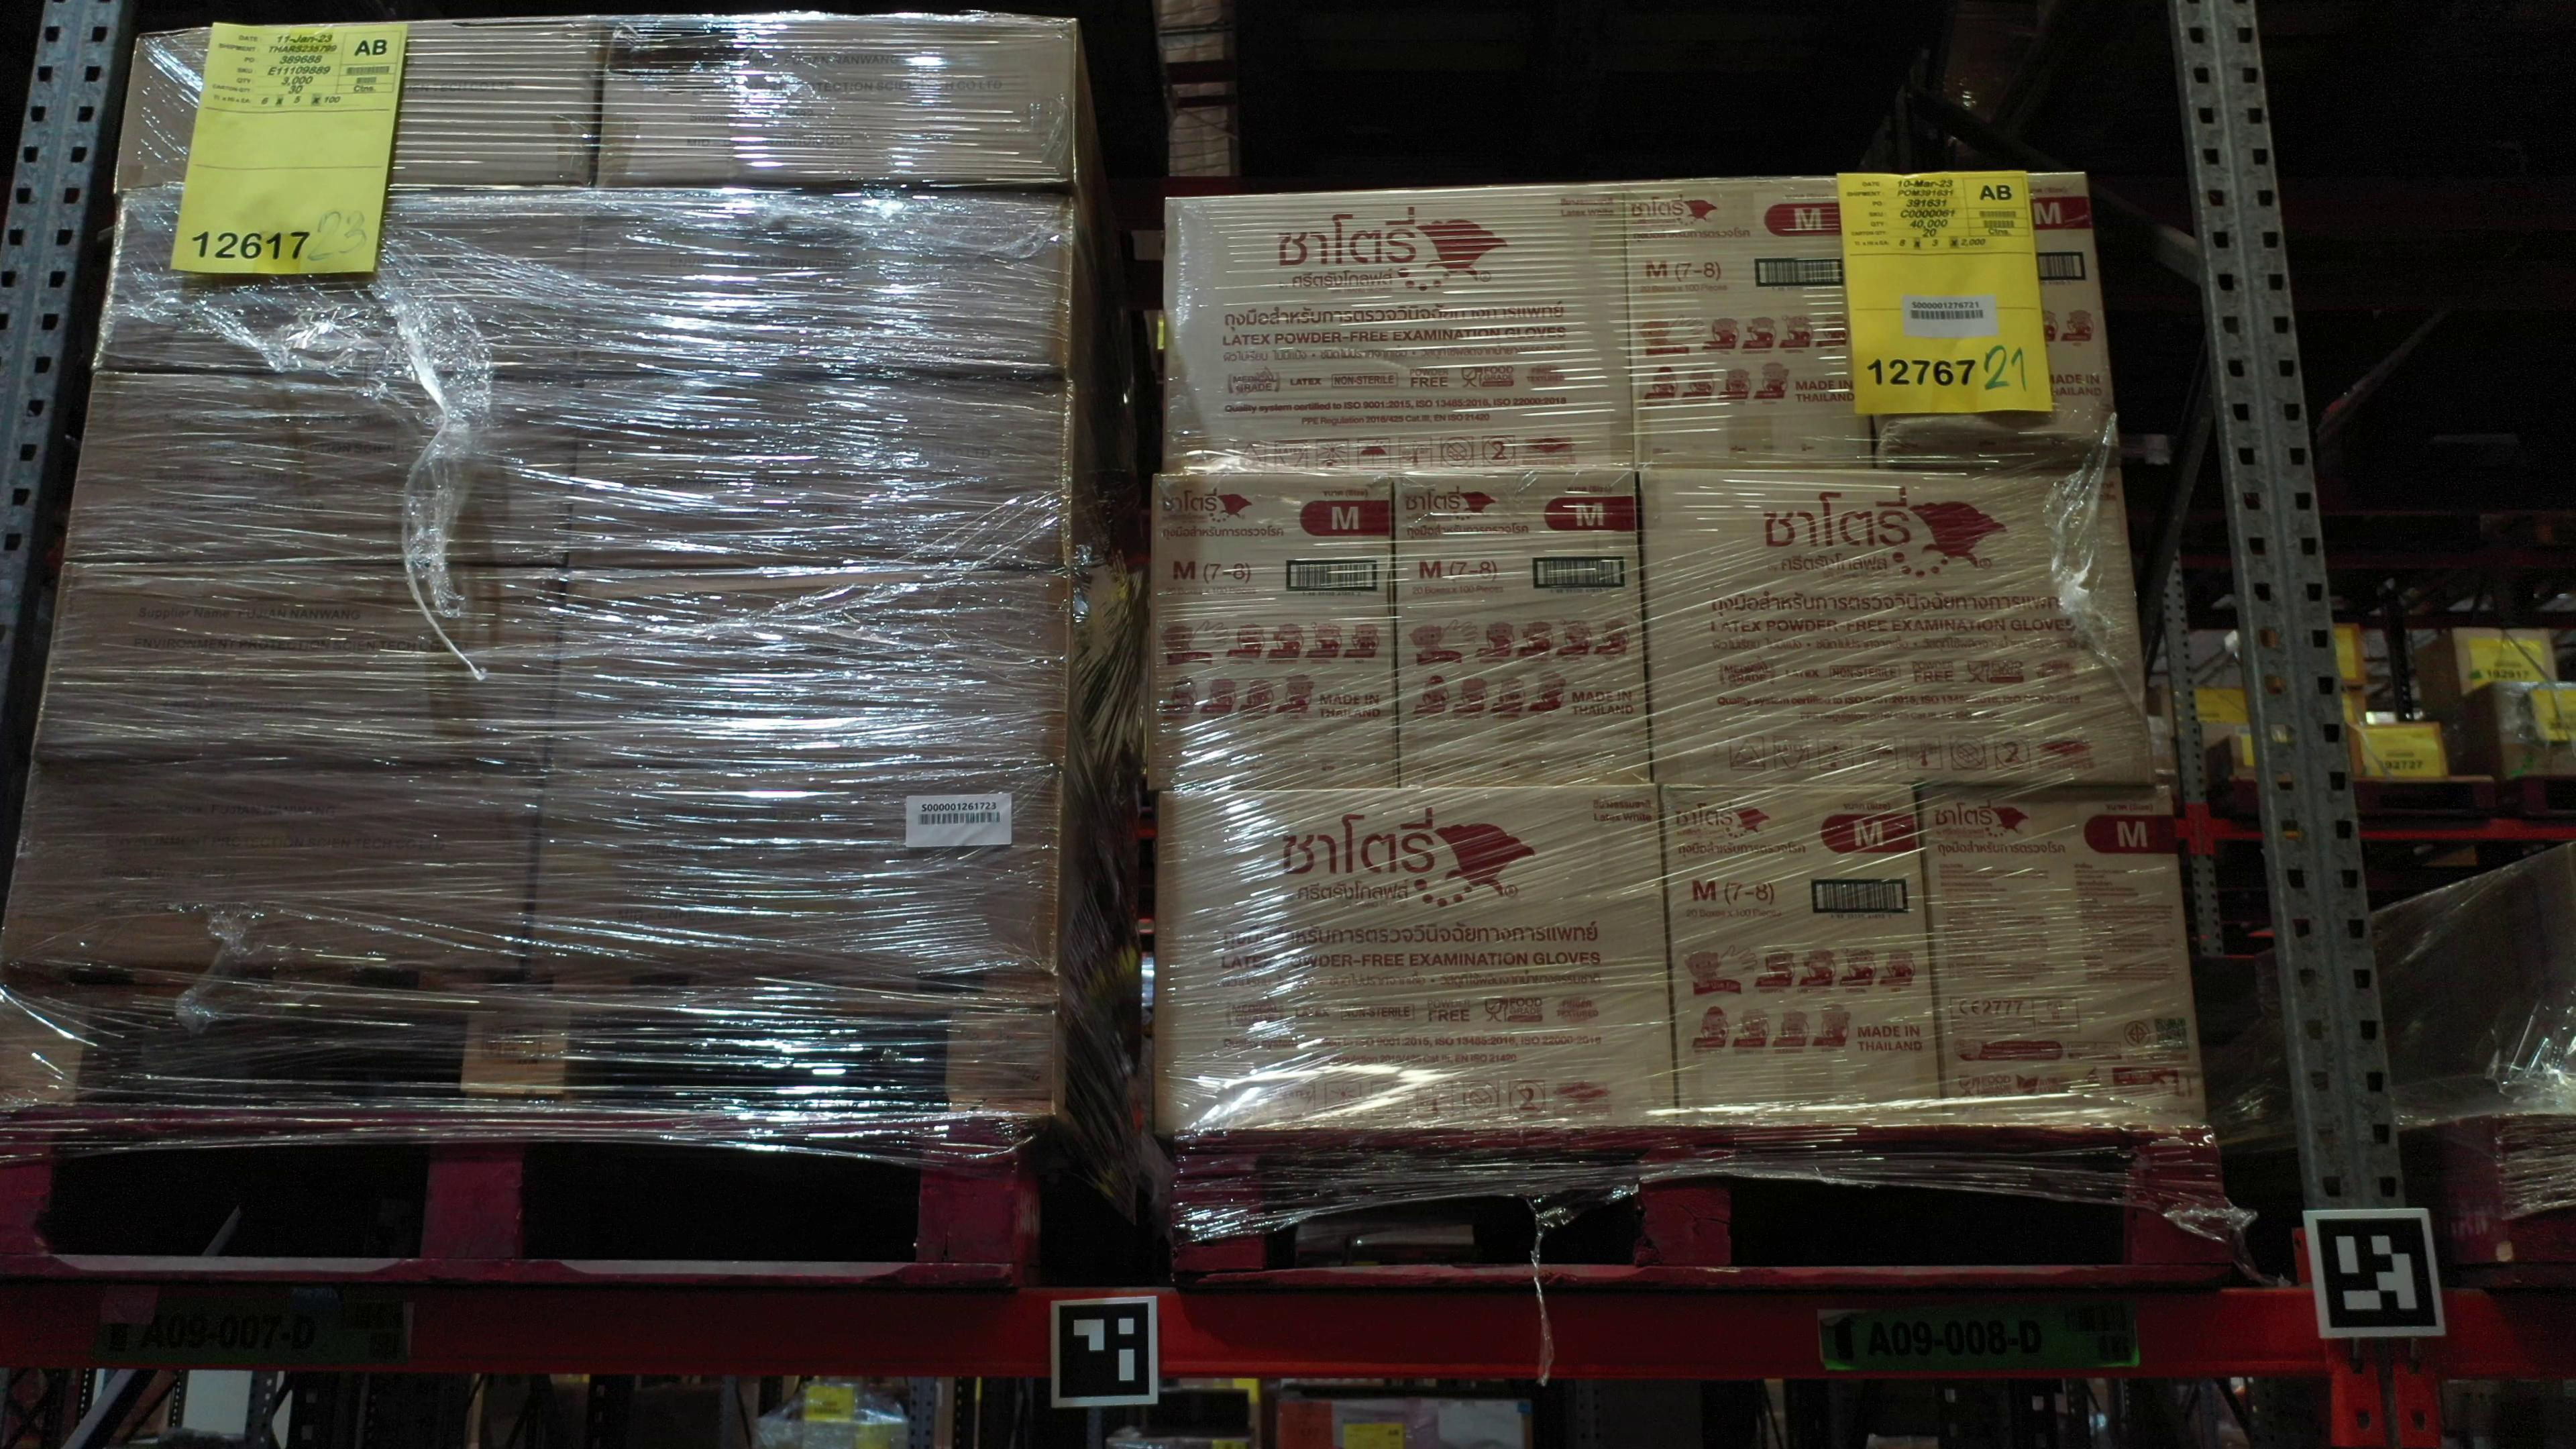-: (1159, 789, 1686, 1139), (1644, 467, 2164, 791), (1164, 180, 1638, 481), (2, 748, 550, 971), (520, 766, 1062, 980), (28, 563, 563, 768), (60, 366, 580, 570), (545, 570, 1072, 766), (1914, 782, 2206, 1127), (566, 379, 1077, 571), (1663, 784, 1950, 1127), (577, 182, 1072, 379), (94, 188, 593, 379), (115, 14, 605, 193), (1396, 464, 1660, 791), (586, 14, 1072, 191), (1154, 476, 1405, 798), (1854, 168, 2120, 469), (1624, 179, 1879, 471)
